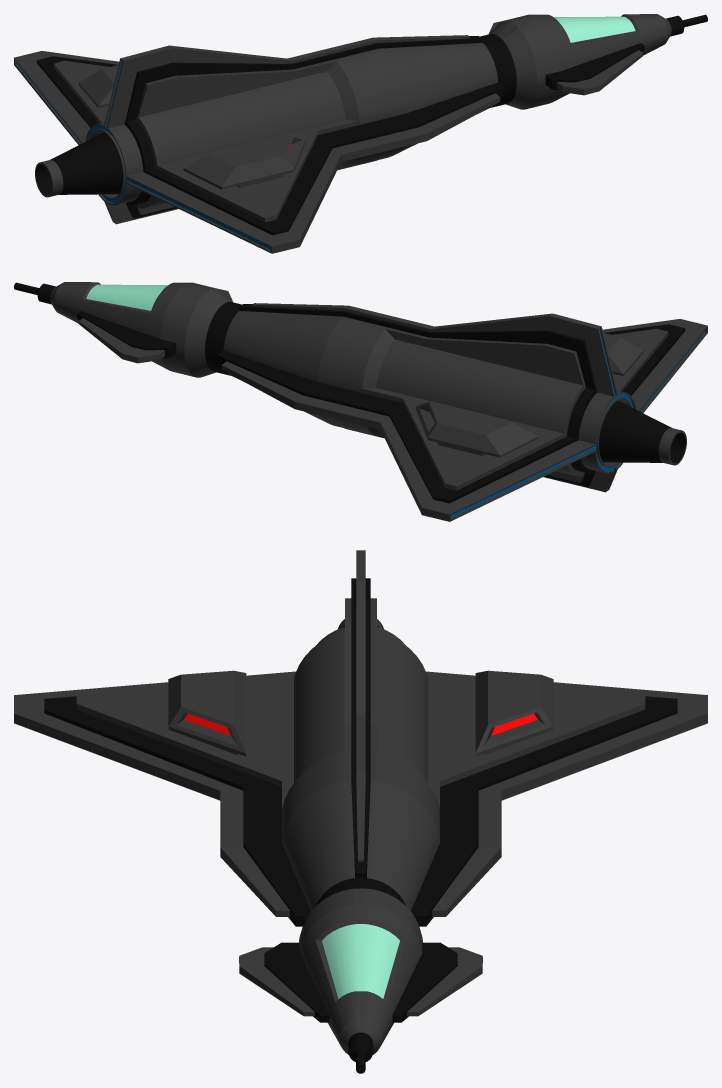
The model's file is SM_PlayershipType4.FBX.
The picture shows the model from 3 angles, top to bottom: view 1: azimuth 30°, elevation 25°; view 2: azimuth 150°, elevation 25°; view 3: azimuth 270°, elevation 25°; orthographic projection. The views are drawn at different scales.
Parts seen in each view (by area): view 1: Tube001; view 2: Tube001; view 3: Tube001.
Boxes of the visible parts, <box> form: Tube001: <box>14,14,707,253</box>; Tube001: <box>14,282,707,521</box>; Tube001: <box>14,550,707,1073</box>.
Bounding box in the file's own units: 134 × 31.39 × 90.4.
